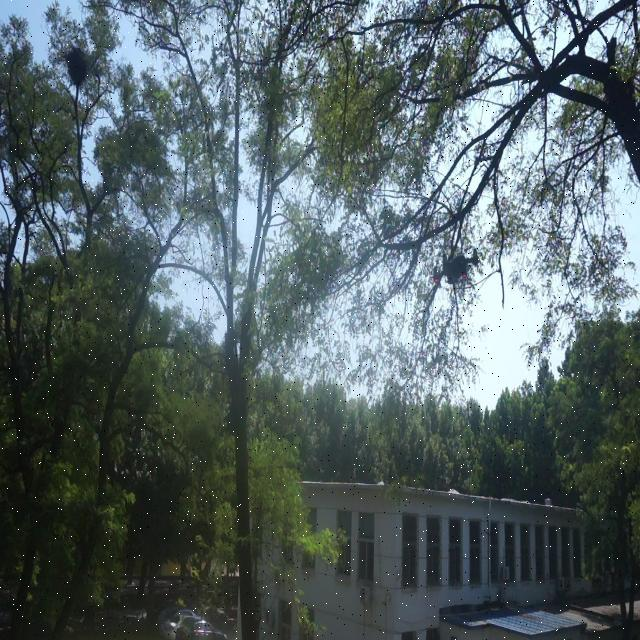UAV: (432, 246, 480, 287)
